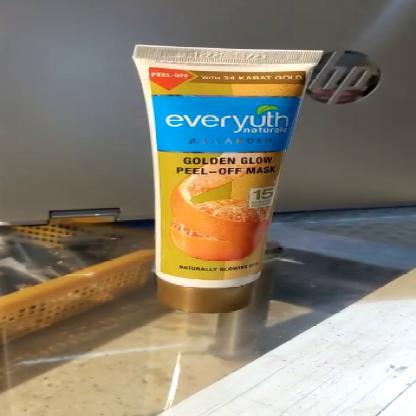EY ADVANCED GOLDEN GLOW PEEL OFF M- 90G: (128, 46, 322, 308)
